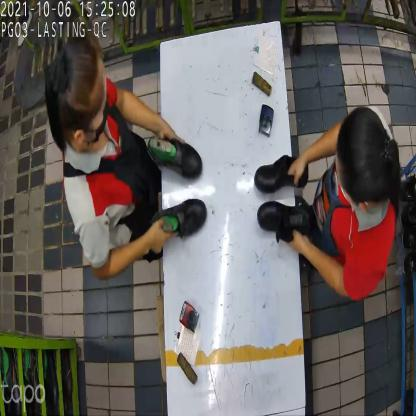shoes: (148, 136, 206, 241), (256, 160, 318, 244)
stamp: (257, 107, 277, 141), (181, 297, 198, 330)
